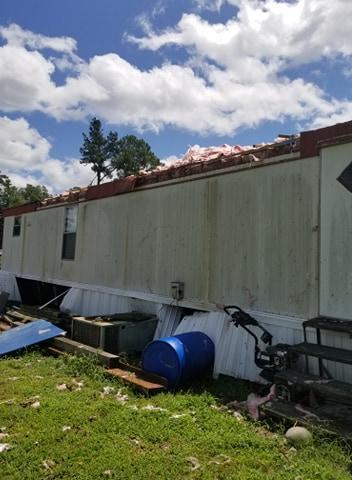major: (6, 129, 352, 405)
